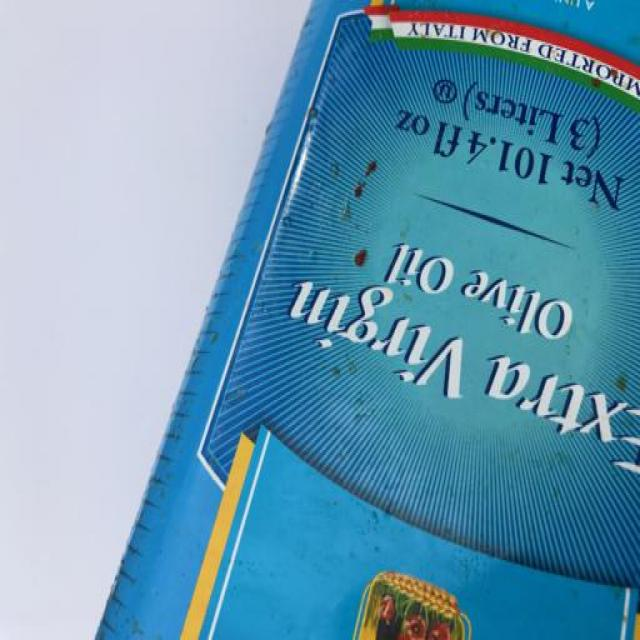metel: (17, 1, 640, 640)
